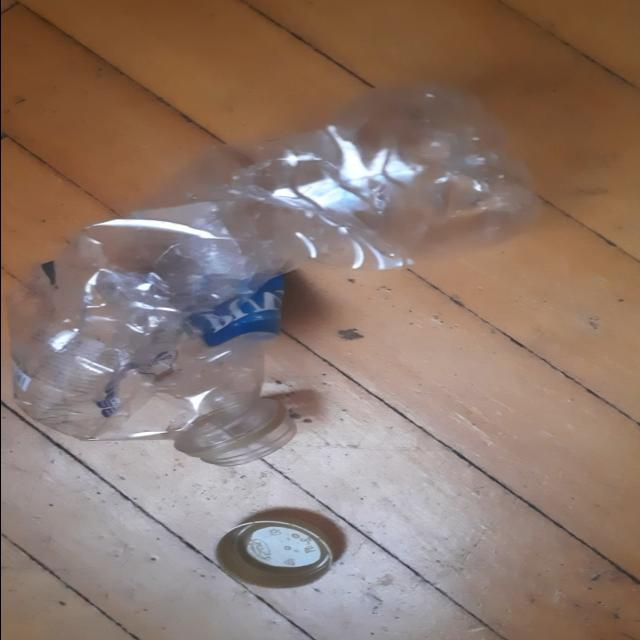Plastic: (9, 82, 543, 464)
